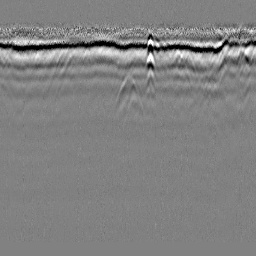cavity: (113, 73, 143, 114)
